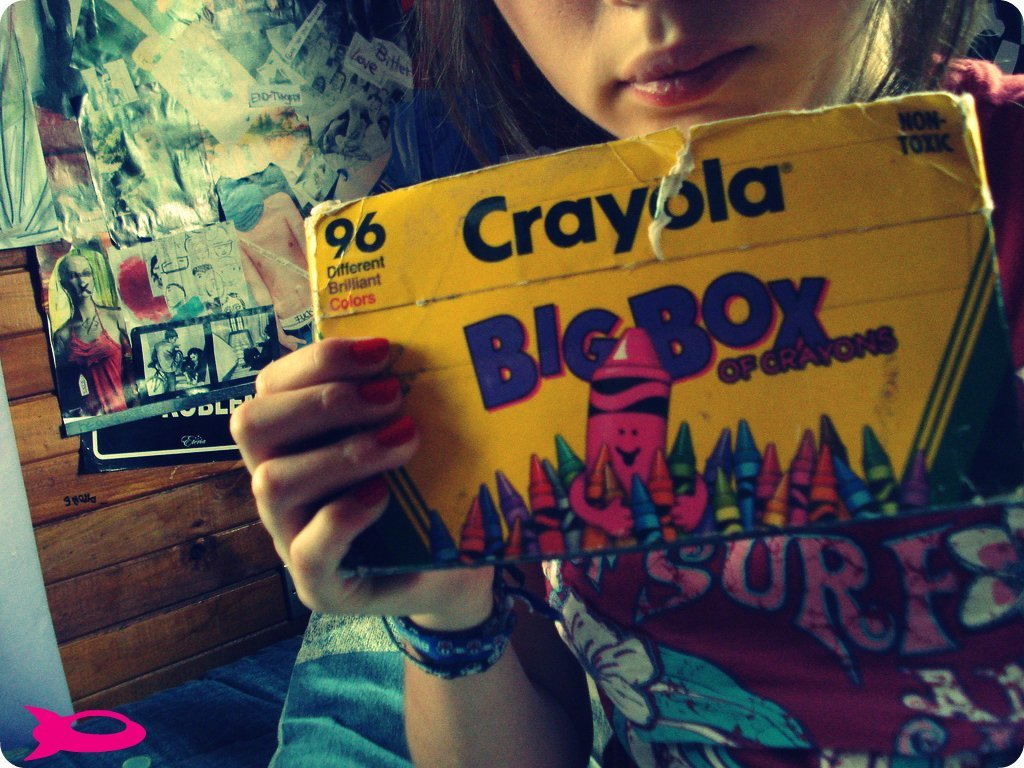Human_hand: (229, 312, 485, 603)
